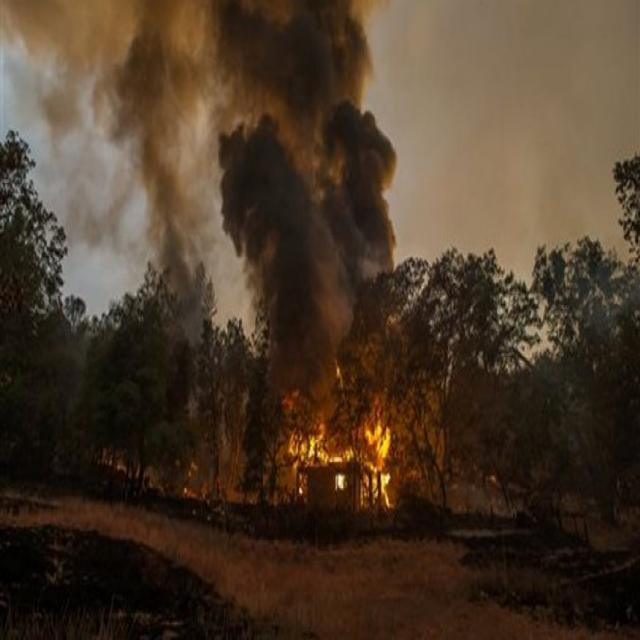Fire: (279, 362, 398, 526), (102, 448, 274, 518)
Smoke: (0, 0, 221, 343), (220, 0, 400, 356)
